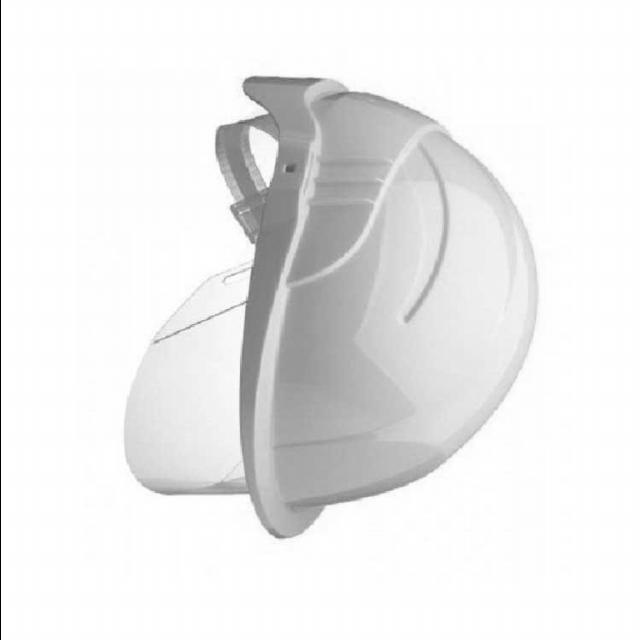safety_helmet: (120, 76, 538, 541)
